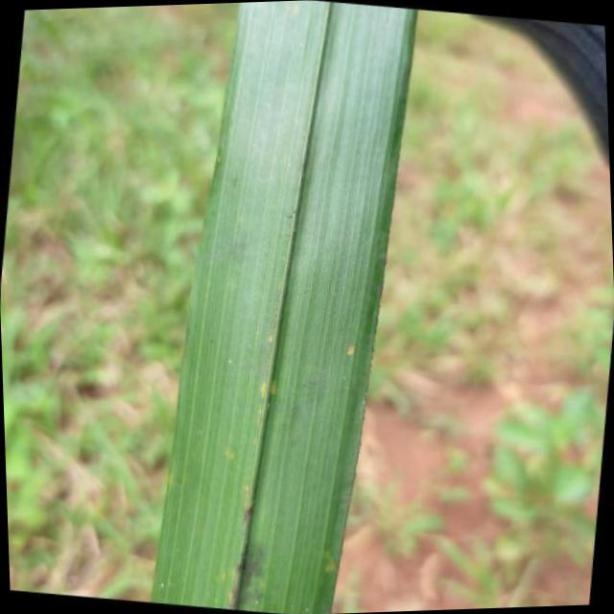Kalium: (155, 0, 419, 614)
